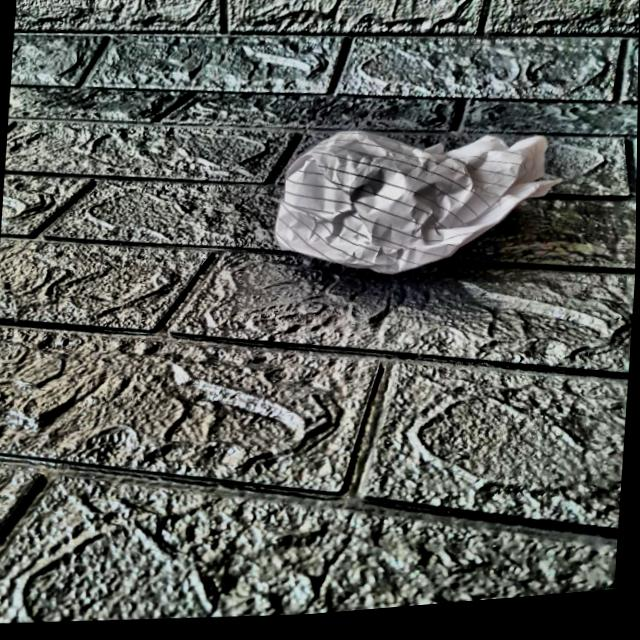Paper: (261, 114, 572, 292)
